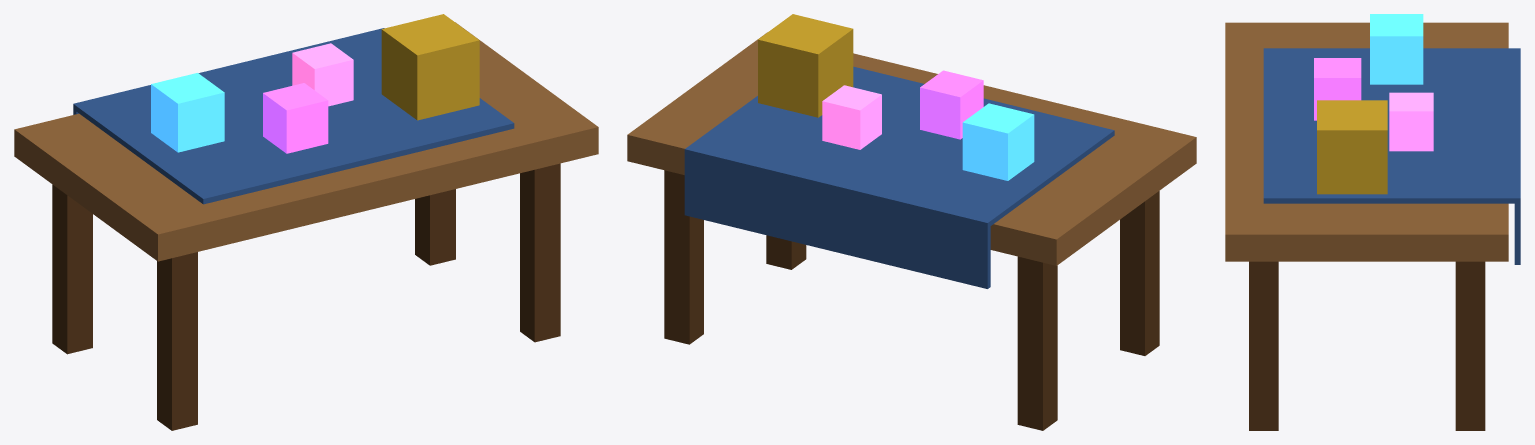
The model's file is tt-trade-table-gems.glb.
3 renders of one model, left to right at view 1: azimuth 30°, elevation 25°; view 2: azimuth 150°, elevation 25°; view 3: azimuth 270°, elevation 25°, orthographic. The views are drawn at different scales.
Parts seen in each view (by area): view 1: box-prop; view 2: box-prop; view 3: box-prop.
Boxes of the visible parts, left/top/right/bottom form: box-prop: left=14, top=14, right=598, bottom=430; box-prop: left=627, top=14, right=1196, bottom=430; box-prop: left=1225, top=14, right=1520, bottom=430.
Bounding box in the file's own units: 1.7 × 1.04 × 1.
